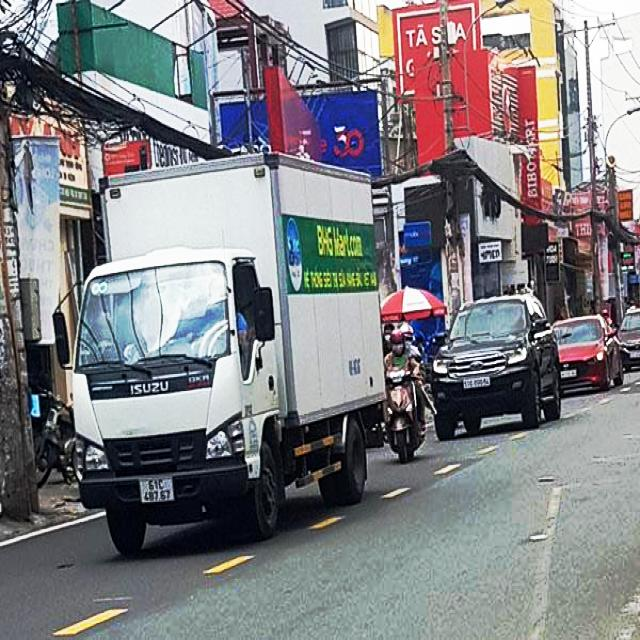license_plate: (140, 475, 175, 507)
